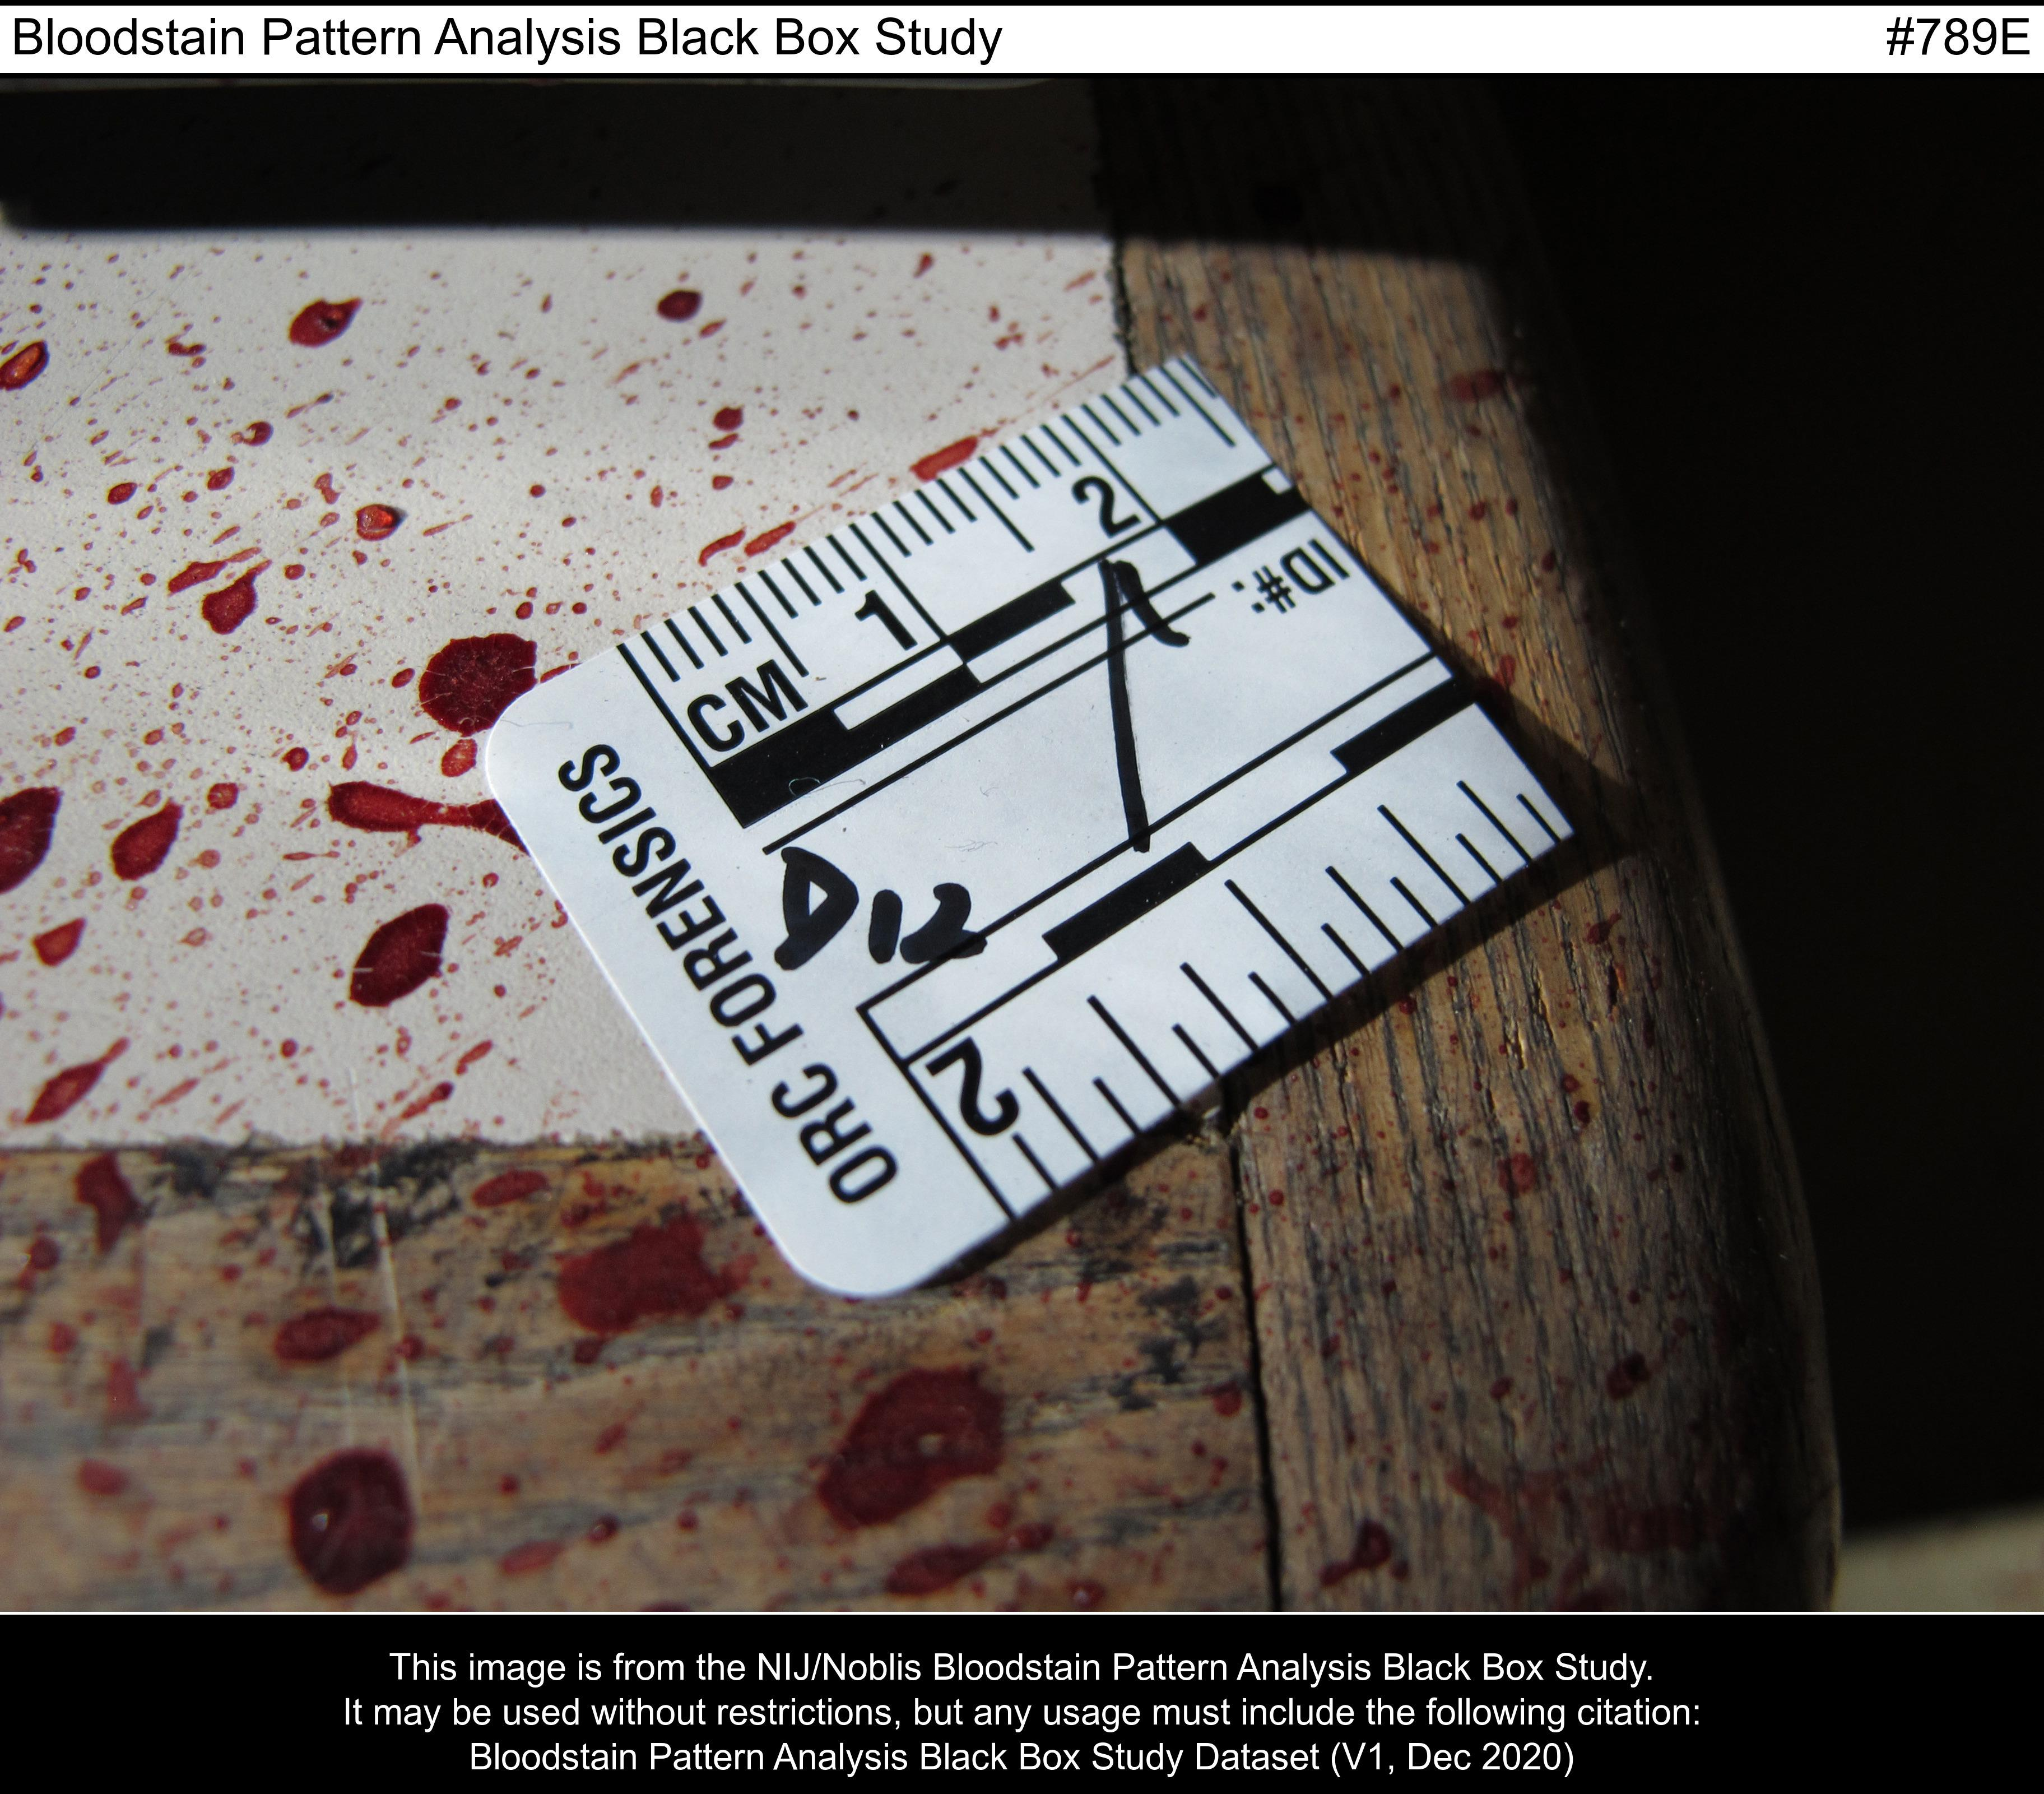Impact: (0, 238, 706, 1140), (0, 1154, 1081, 1599), (704, 243, 1123, 555)
